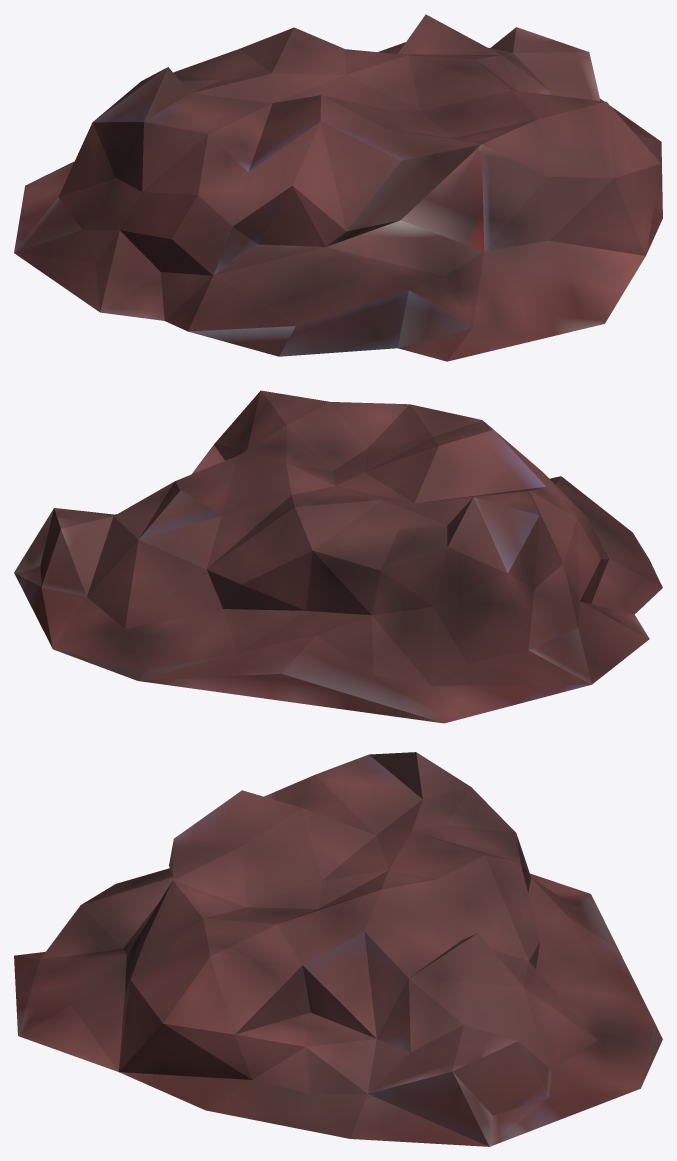
The model's file is BloodCot.fbx.
The picture shows the model from 3 angles, top to bottom: view 1: azimuth 30°, elevation 25°; view 2: azimuth 150°, elevation 25°; view 3: azimuth 270°, elevation 25°; orthographic projection. The views are drawn at different scales.
Visible parts, largest first — view 1: blood_clot; view 2: blood_clot; view 3: blood_clot.
Part boxes in pixels (box(x1,y1,x2,y2)): blood_clot: box(14, 14, 662, 361); blood_clot: box(14, 390, 662, 723); blood_clot: box(14, 752, 662, 1146).
Bounding box in the file's own units: 0.2579 × 0.0688 × 0.2396.
